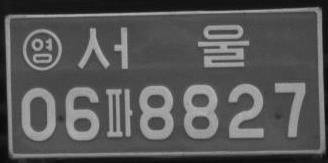0: (19, 86, 56, 143)
2: (227, 81, 266, 140)
6: (64, 85, 100, 142)
7: (273, 81, 307, 139)
8: (182, 83, 219, 140), (138, 84, 174, 140)
서울_D: (77, 23, 249, 69)
영: (21, 28, 64, 72)
파: (104, 86, 134, 139)
